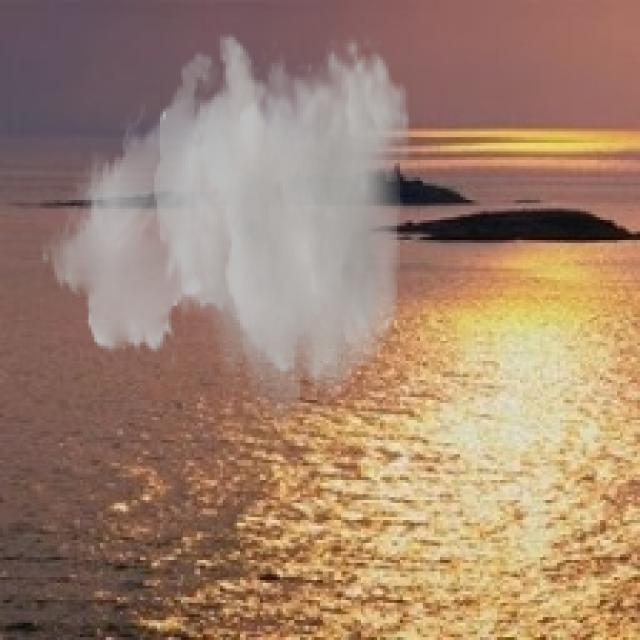smoke: (40, 31, 411, 440)
